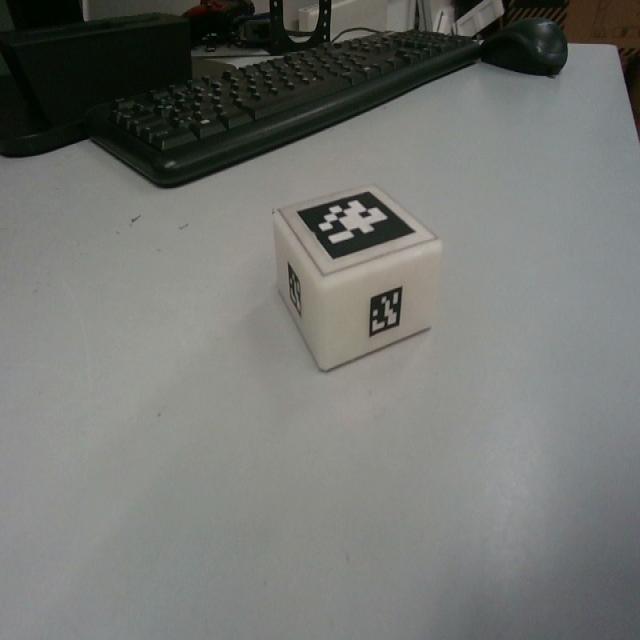Cube: (271, 182, 442, 370)
